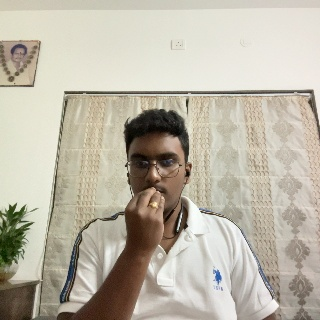Food: (120, 187, 168, 264)
